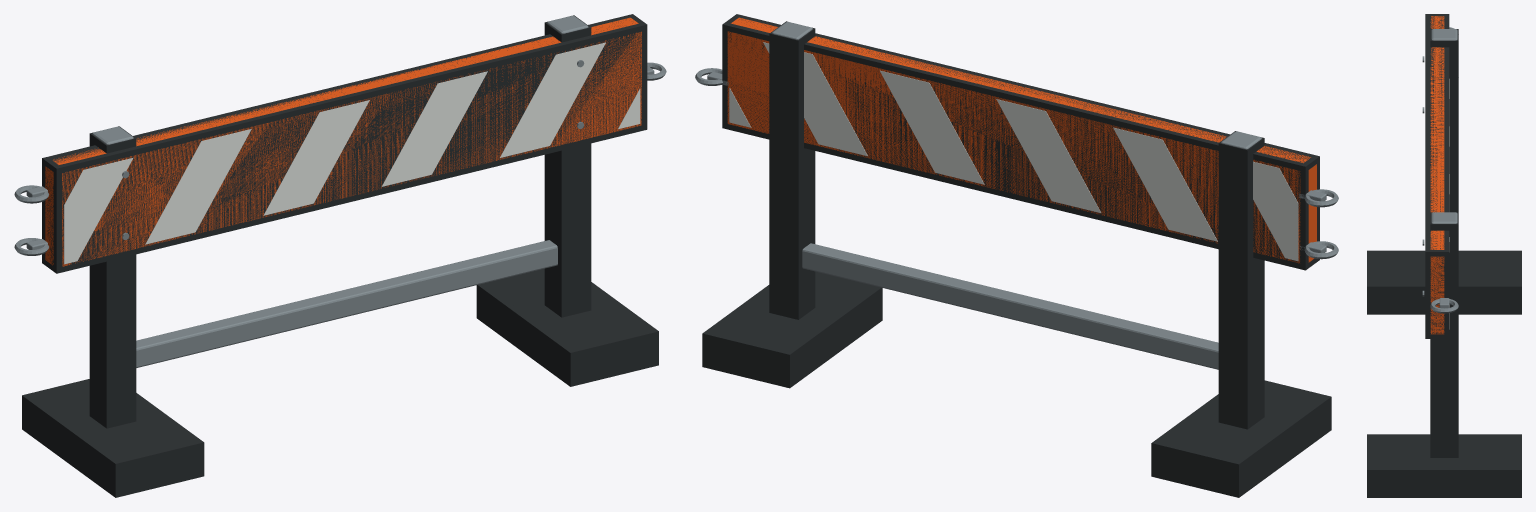
Rendered from SIMUS_Barricade_02.fbx.
3 renders of one model, left to right at view 1: azimuth 30°, elevation 25°; view 2: azimuth 150°, elevation 25°; view 3: azimuth 270°, elevation 25°, orthographic. The views are drawn at different scales.
Parts seen in each view (by area): view 1: COL_BARRICADE_02_BOARD, BARRICADE_02_BOARD, BARRICADE_02_REFLECTIVE, BARRICADE_02_LOWER_BRACE, COL_BARRICADE_02_FOOT_0.77, COL_BARRICADE_02_POST_-0.77, COL_BARRICADE_02_POST_0.77, BARRICADE_02_FOOT_-0.77, COL_BARRICADE_02_FOOT_-0.77, BARRICADE_02_FOOT_0.77; view 2: COL_BARRICADE_02_BOARD, BARRICADE_02_BOARD, BARRICADE_02_REFLECTIVE, COL_BARRICADE_02_POST_-0.77, BARRICADE_02_LOWER_BRACE, COL_BARRICADE_02_POST_0.77, COL_BARRICADE_02_FOOT_-0.77, COL_BARRICADE_02_FOOT_0.77, BARRICADE_02_FOOT_0.77, BARRICADE_02_FOOT_-0.77; view 3: COL_BARRICADE_02_FOOT_0.77, BARRICADE_02_FOOT_0.77, COL_BARRICADE_02_BOARD, BARRICADE_02_FOOT_-0.77, COL_BARRICADE_02_FOOT_-0.77, COL_BARRICADE_02_POST_0.77, BARRICADE_02_BOARD, COL_BARRICADE_02_POST_-0.77, BARRICADE_02_POST_0.77, BARRICADE_02_POST_-0.77, BARRICADE_02_COUPLER_1.045_0.81.
Boxes of the visible parts, bbox=[...] form: COL_BARRICADE_02_BOARD: bbox=[42, 14, 647, 273]; BARRICADE_02_BOARD: bbox=[45, 17, 641, 266]; BARRICADE_02_REFLECTIVE: bbox=[64, 42, 640, 264]; BARRICADE_02_LOWER_BRACE: bbox=[136, 240, 557, 367]; COL_BARRICADE_02_FOOT_0.77: bbox=[476, 268, 658, 386]; COL_BARRICADE_02_POST_-0.77: bbox=[89, 126, 136, 428]; COL_BARRICADE_02_POST_0.77: bbox=[544, 15, 591, 317]; BARRICADE_02_FOOT_-0.77: bbox=[25, 382, 197, 488]; COL_BARRICADE_02_FOOT_-0.77: bbox=[22, 379, 204, 497]; BARRICADE_02_FOOT_0.77: bbox=[480, 271, 652, 378]; COL_BARRICADE_02_BOARD: bbox=[722, 14, 1319, 270]; BARRICADE_02_BOARD: bbox=[727, 17, 1316, 263]; BARRICADE_02_REFLECTIVE: bbox=[729, 42, 1298, 260]; COL_BARRICADE_02_POST_-0.77: bbox=[1218, 131, 1264, 429]; BARRICADE_02_LOWER_BRACE: bbox=[802, 243, 1218, 369]; COL_BARRICADE_02_POST_0.77: bbox=[769, 21, 815, 319]; COL_BARRICADE_02_FOOT_-0.77: bbox=[1151, 380, 1331, 497]; COL_BARRICADE_02_FOOT_0.77: bbox=[702, 271, 882, 388]; BARRICADE_02_FOOT_0.77: bbox=[708, 274, 878, 379]; BARRICADE_02_FOOT_-0.77: bbox=[1158, 404, 1327, 489]; COL_BARRICADE_02_FOOT_0.77: bbox=[1367, 434, 1521, 497]; BARRICADE_02_FOOT_0.77: bbox=[1373, 436, 1515, 492]; COL_BARRICADE_02_BOARD: bbox=[1425, 14, 1449, 338]; BARRICADE_02_FOOT_-0.77: bbox=[1373, 253, 1515, 308]; COL_BARRICADE_02_FOOT_-0.77: bbox=[1367, 250, 1521, 314]; COL_BARRICADE_02_POST_0.77: bbox=[1430, 212, 1458, 457]; BARRICADE_02_BOARD: bbox=[1430, 16, 1444, 334]; COL_BARRICADE_02_POST_-0.77: bbox=[1430, 29, 1458, 212]; BARRICADE_02_POST_0.77: bbox=[1431, 212, 1457, 223]; BARRICADE_02_POST_-0.77: bbox=[1431, 29, 1457, 40]; BARRICADE_02_COUPLER_1.045_0.81: bbox=[1430, 299, 1458, 313].
Bounding box in the file's own units: 219 × 103 × 55.
